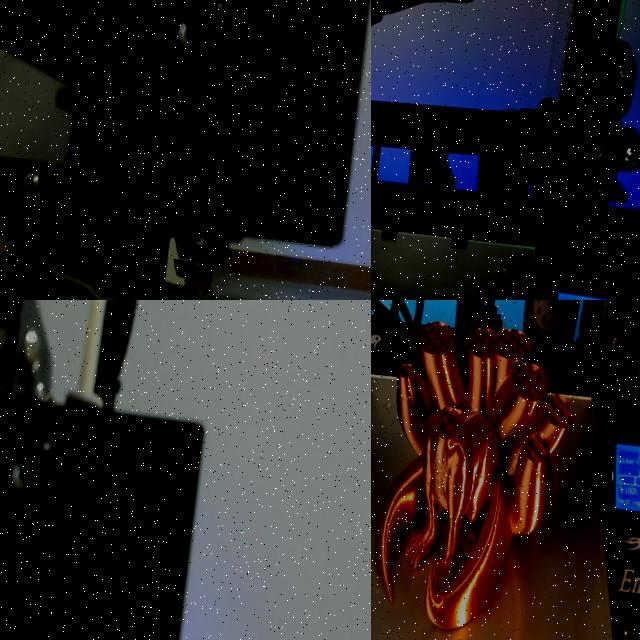spaghetti: (0, 231, 140, 300), (201, 288, 209, 300)
